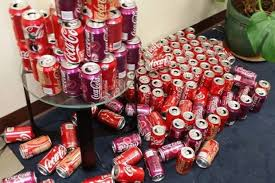can: (20, 3, 44, 50), (74, 60, 100, 103), (5, 120, 35, 143), (90, 20, 107, 58), (177, 148, 195, 180)
